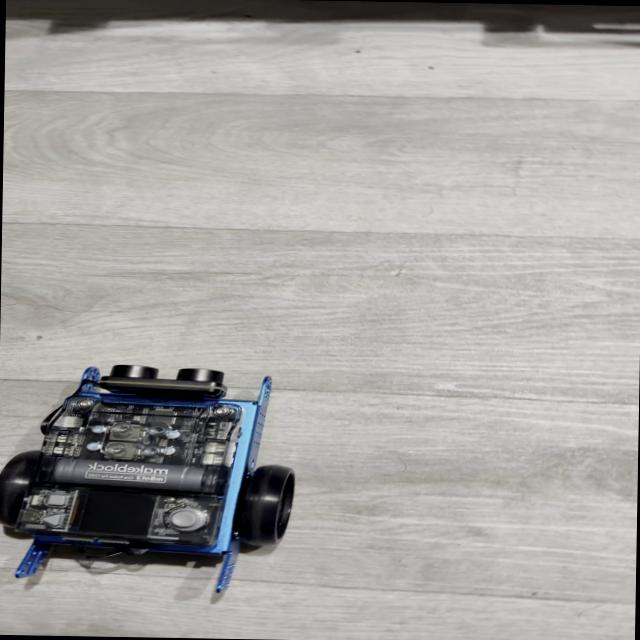mbot-detection: (0, 352, 313, 615)
